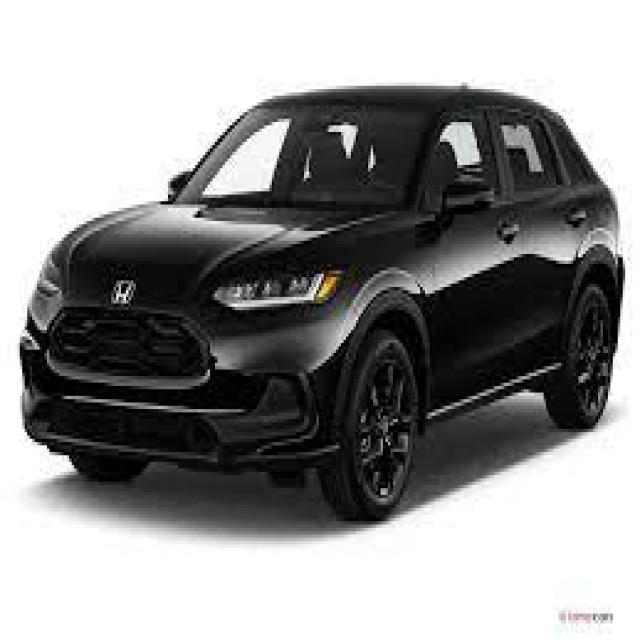Car: (21, 26, 628, 512)
